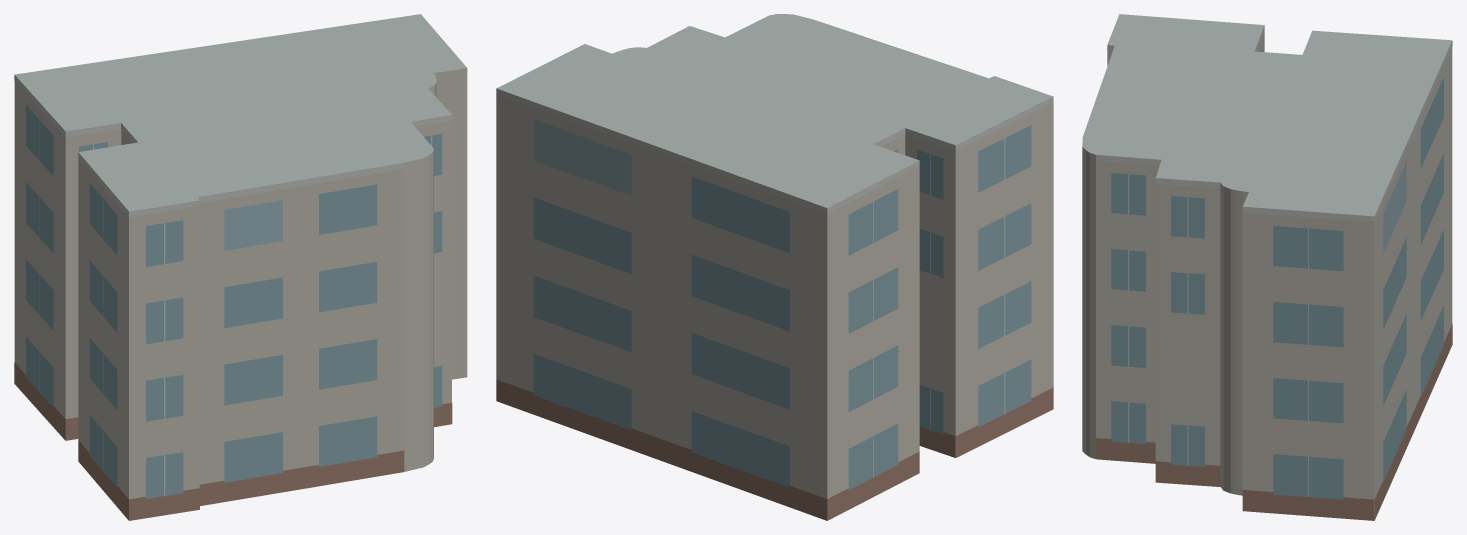
File: survey-upis-33030632.glb
The picture shows the model from 3 angles, left to right: view 1: azimuth 30°, elevation 25°; view 2: azimuth 150°, elevation 25°; view 3: azimuth 270°, elevation 25°; orthographic projection. The views are drawn at different scales.
Parts seen in each view (by area): view 1: survey-upis-33030632.tmp; view 2: survey-upis-33030632.tmp; view 3: survey-upis-33030632.tmp.
Part boxes in pixels (x1,y1,x2,y2): survey-upis-33030632.tmp: (14,14,467,520); survey-upis-33030632.tmp: (496,14,1053,520); survey-upis-33030632.tmp: (1082,14,1452,520).
Bounding box in the file's own units: 18.05 × 12.65 × 13.94.
